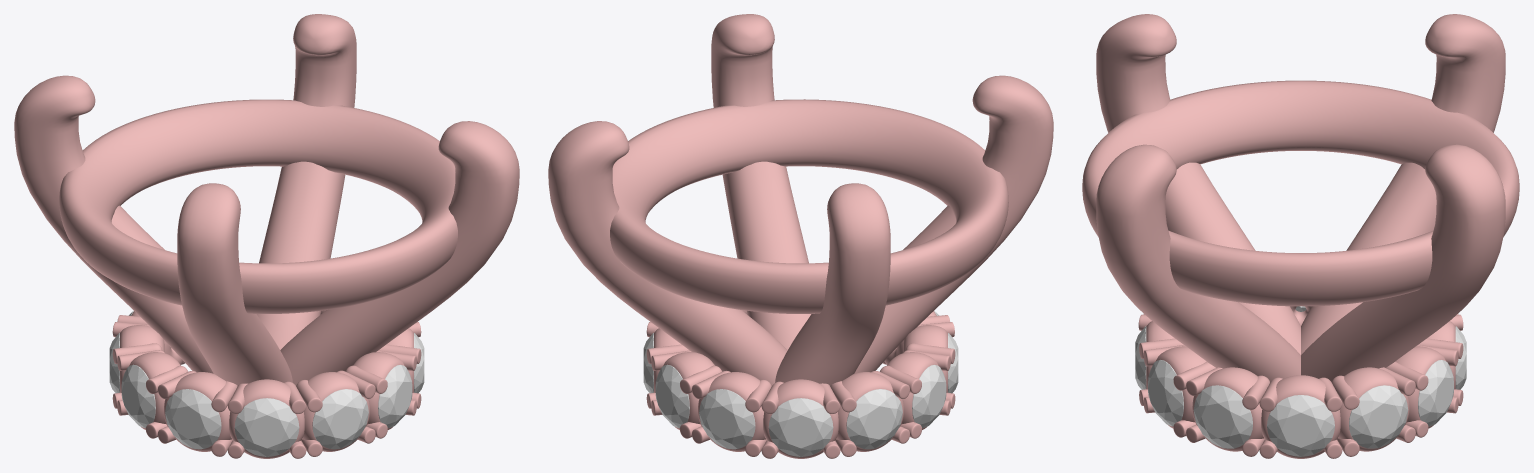
The model's file is ROUND.glb.
3 views of the same model, side by side, from view 1: azimuth 30°, elevation 25°; view 2: azimuth 150°, elevation 25°; view 3: azimuth 270°, elevation 25° (orthographic). The views are drawn at different scales.
Parts seen in each view (by area): view 1: round.001, hidden halo.001, hidden halo - diamonds.001; view 2: round.001, hidden halo.001, hidden halo - diamonds.001; view 3: round.001, hidden halo.001, hidden halo - diamonds.001.
Boxes of the visible parts, x1,y1,x2,y2 form: round.001: (14, 14, 519, 385); hidden halo.001: (112, 310, 421, 458); hidden halo - diamonds.001: (109, 310, 424, 456); round.001: (548, 14, 1053, 385); hidden halo.001: (646, 310, 955, 458); hidden halo - diamonds.001: (643, 310, 958, 456); round.001: (1082, 14, 1519, 382); hidden halo.001: (1138, 306, 1463, 458); hidden halo - diamonds.001: (1135, 306, 1466, 456).
Bounding box in the file's own units: 4.96 × 4.53 × 4.96.
